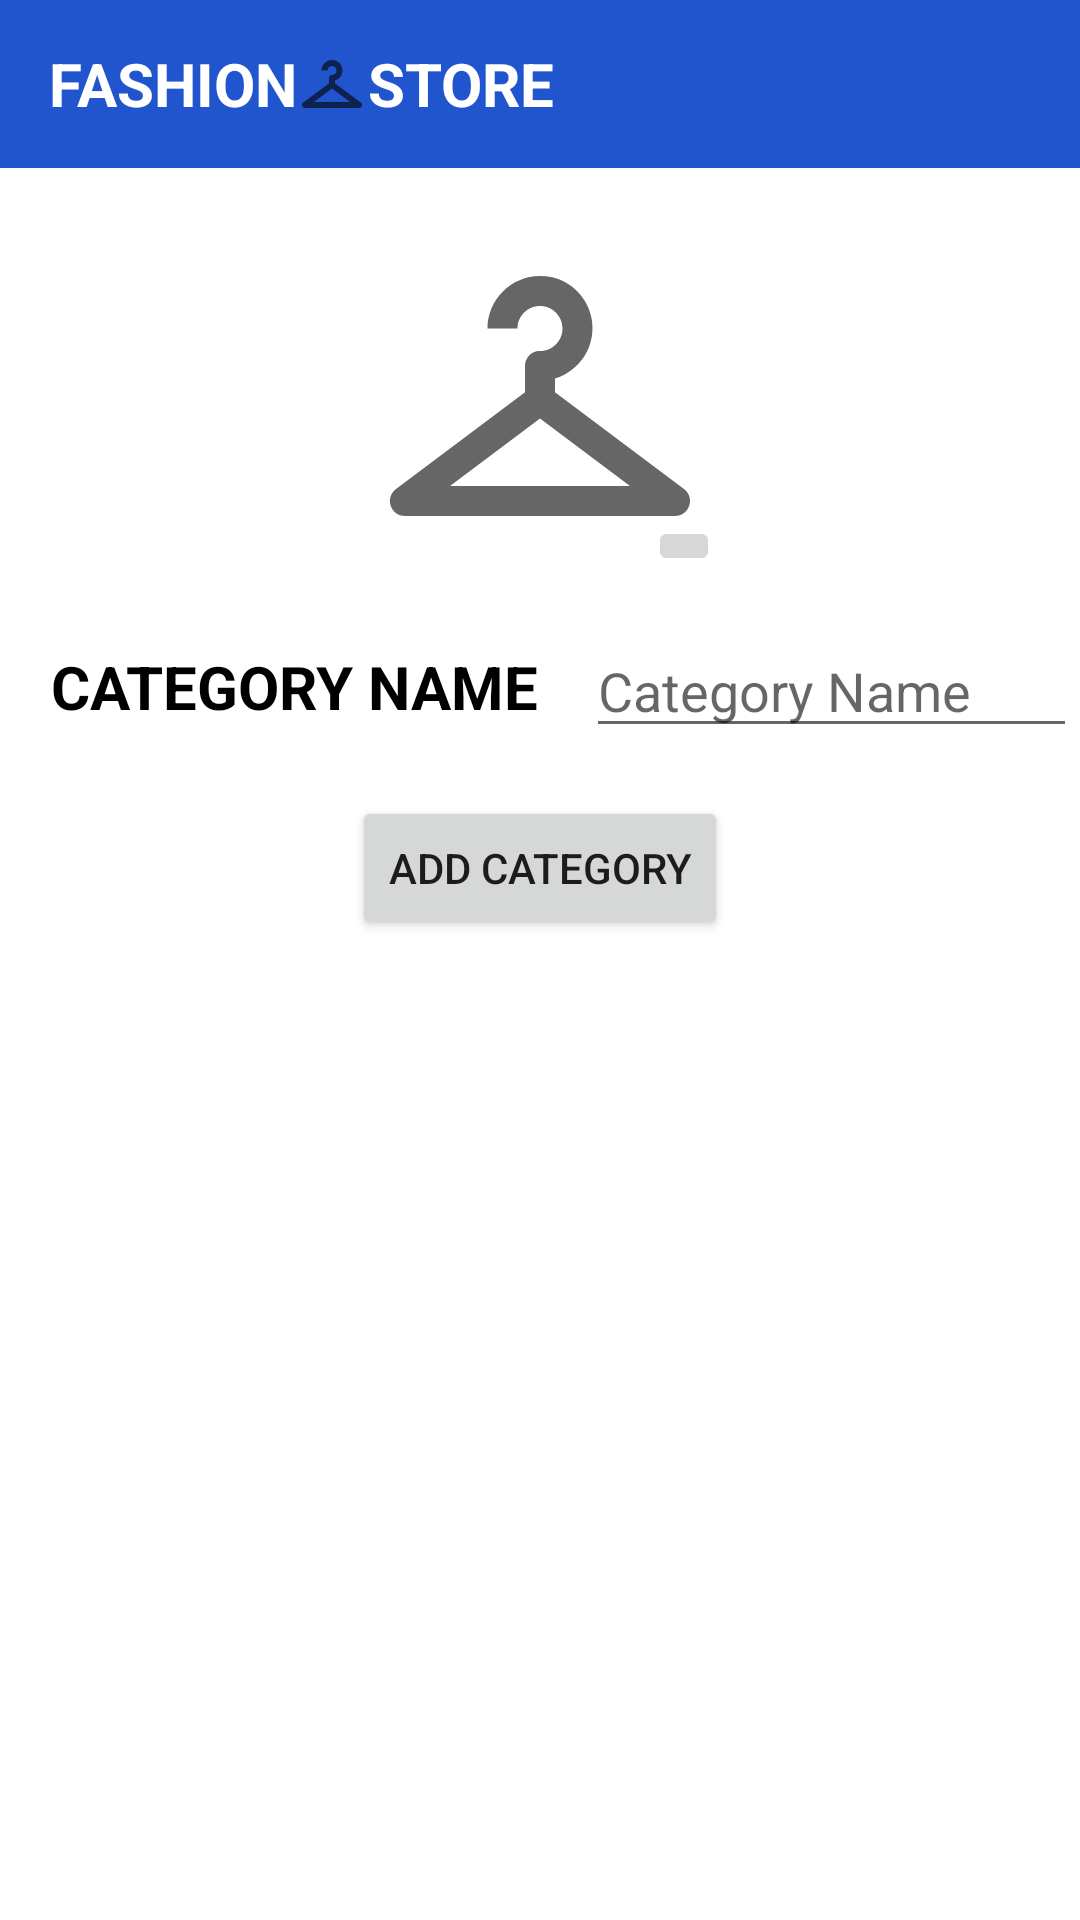

Screen size 1080 x 1920. Icon name, then its box in pixels as (x1, y1, x2, y2):
checkroom: (302, 60, 362, 108), (390, 276, 708, 558)
